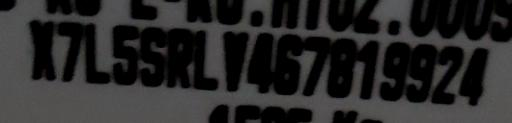letter: (272, 34, 304, 97), (326, 37, 358, 98), (378, 38, 410, 99), (459, 47, 491, 106), (434, 44, 464, 105), (406, 43, 438, 100), (28, 18, 56, 81), (139, 25, 167, 88), (82, 24, 110, 85), (109, 24, 137, 85), (218, 31, 246, 92), (166, 25, 192, 90), (304, 33, 330, 96), (247, 32, 273, 93), (57, 20, 81, 81), (193, 27, 217, 88), (355, 39, 379, 100)
